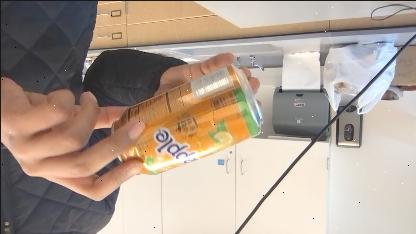Can: (102, 66, 266, 178)
